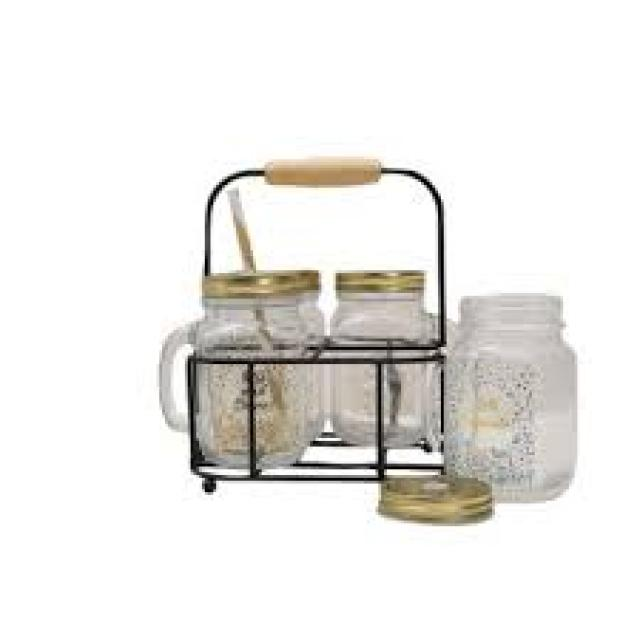glass: (157, 293, 322, 464), (444, 293, 572, 498), (327, 293, 458, 444)
metal: (376, 473, 490, 524), (196, 267, 316, 296), (330, 268, 421, 291)
